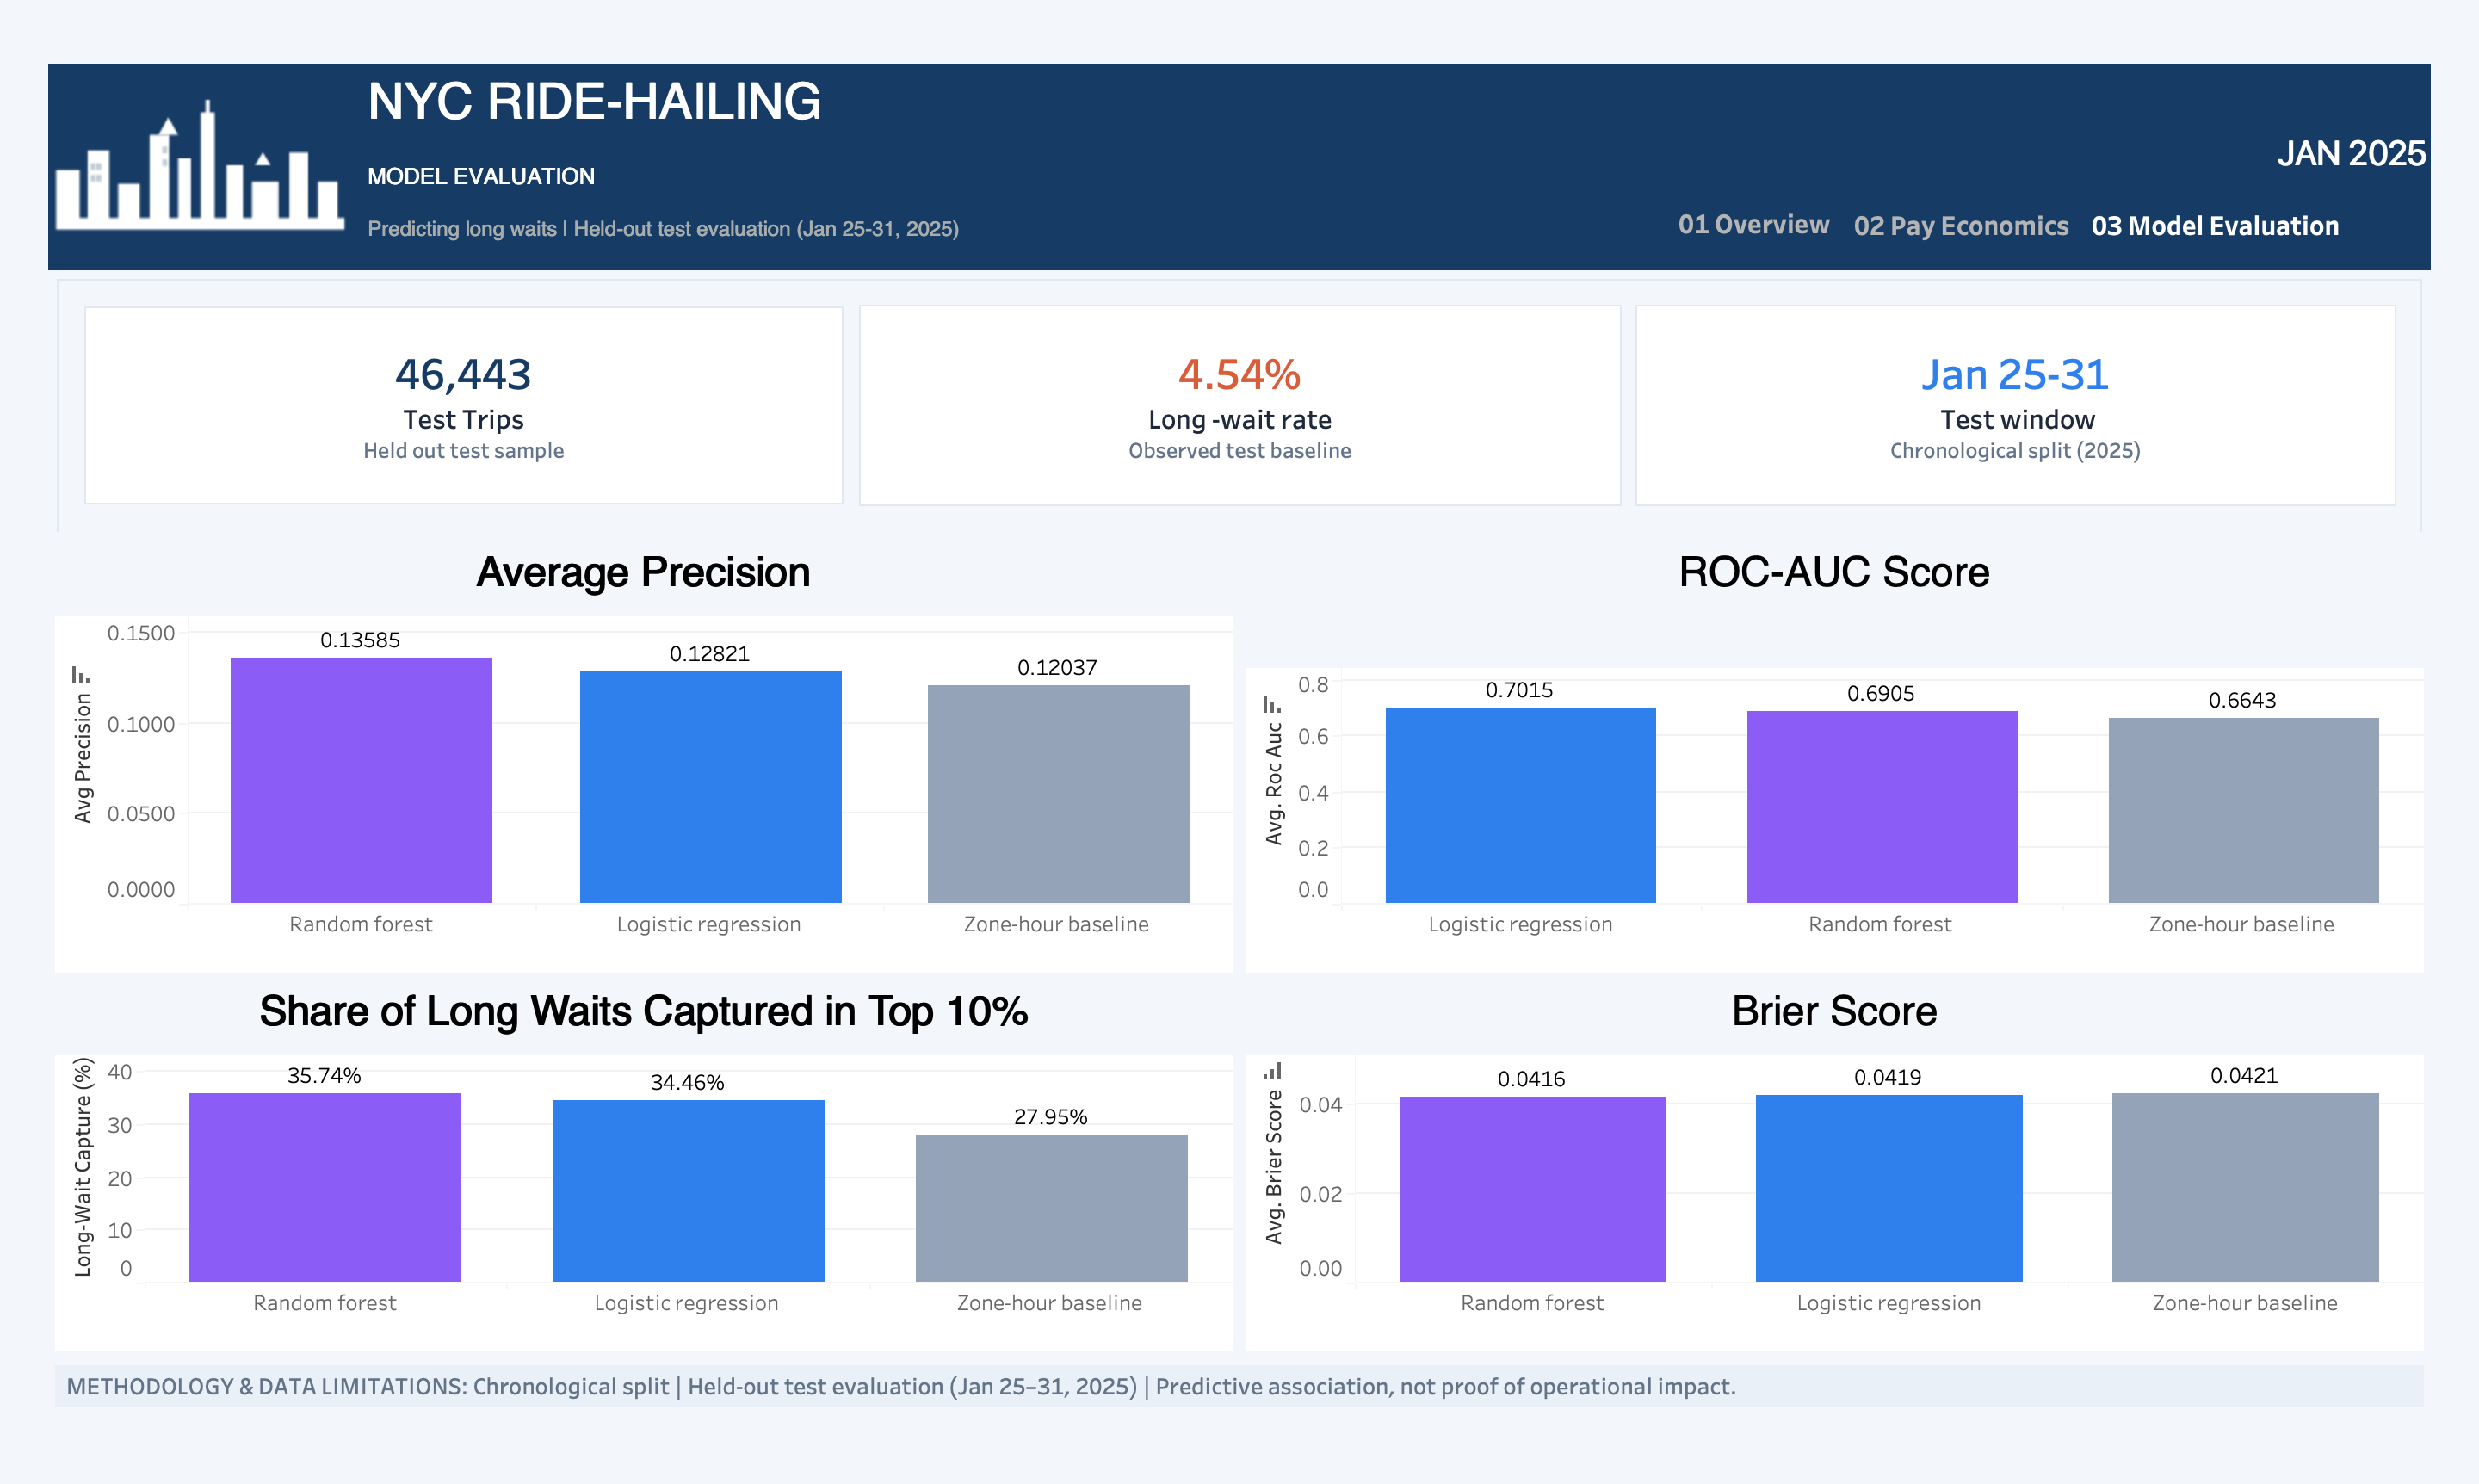

What the dashboard file says about the page in this screenshot:
{"tool":"tableau","page":{"name":"03_Model Evaluation","canvas":[1400,800],"ordinal":2},"visuals":[{"type":"image","param":"Image/nyc_skyline_white.svg","box":[8,8,183,119.5]},{"type":"text","box":[191,8,634.5,119.5]},{"type":"text","box":[825.5,8,566.5,119.5]},{"type":"dashboard-object","box":[917,74,164,52]},{"type":"dashboard-object","box":[1038,75,164,52]},{"type":"dashboard-object","box":[1178,77,178,48]},{"type":"text","box":[24,144,451,125]},{"type":"text","box":[475,144,451,125]},{"type":"text","box":[926,144,450,125]},{"type":"worksheet","title":"09_Average Precision","mark":"Bar","rows":["average_precision"],"cols":["model"],"box":[8,285.2,692,255.1]},{"type":"worksheet","title":"10_ROC-AUC","mark":"Bar","rows":["roc_auc"],"cols":["model"],"box":[700,285.2,692,255.1]},{"type":"worksheet","title":"11_Top 10 Long-Wait Capture","mark":"Bar","rows":["long_wait_capture_pct"],"cols":["model"],"box":[8,540.3,692,219.7]},{"type":"worksheet","title":"12_Brier Score","mark":"Bar","rows":["brier_score"],"cols":["model"],"box":[700,540.3,692,219.7]},{"type":"text","box":[8,760,1384,32]}]}

Visuals, with their boxes on the page's 1400x800 design canvas (x1, y1, x2, y2). These are canvas units, not pixel positions in the 2479x1484 screenshot, which may show the page scaled, cropped or inside an application window:
image: l=8, t=8, r=191, b=128
text: l=191, t=8, r=826, b=128
text: l=826, t=8, r=1392, b=128
dashboard-object: l=917, t=74, r=1081, b=126
dashboard-object: l=1038, t=75, r=1202, b=127
dashboard-object: l=1178, t=77, r=1356, b=125
text: l=24, t=144, r=475, b=269
text: l=475, t=144, r=926, b=269
text: l=926, t=144, r=1376, b=269
"09_Average Precision" worksheet (Bar marks): l=8, t=285, r=700, b=540
"10_ROC-AUC" worksheet (Bar marks): l=700, t=285, r=1392, b=540
"11_Top 10 Long-Wait Capture" worksheet (Bar marks): l=8, t=540, r=700, b=760
"12_Brier Score" worksheet (Bar marks): l=700, t=540, r=1392, b=760
text: l=8, t=760, r=1392, b=792
